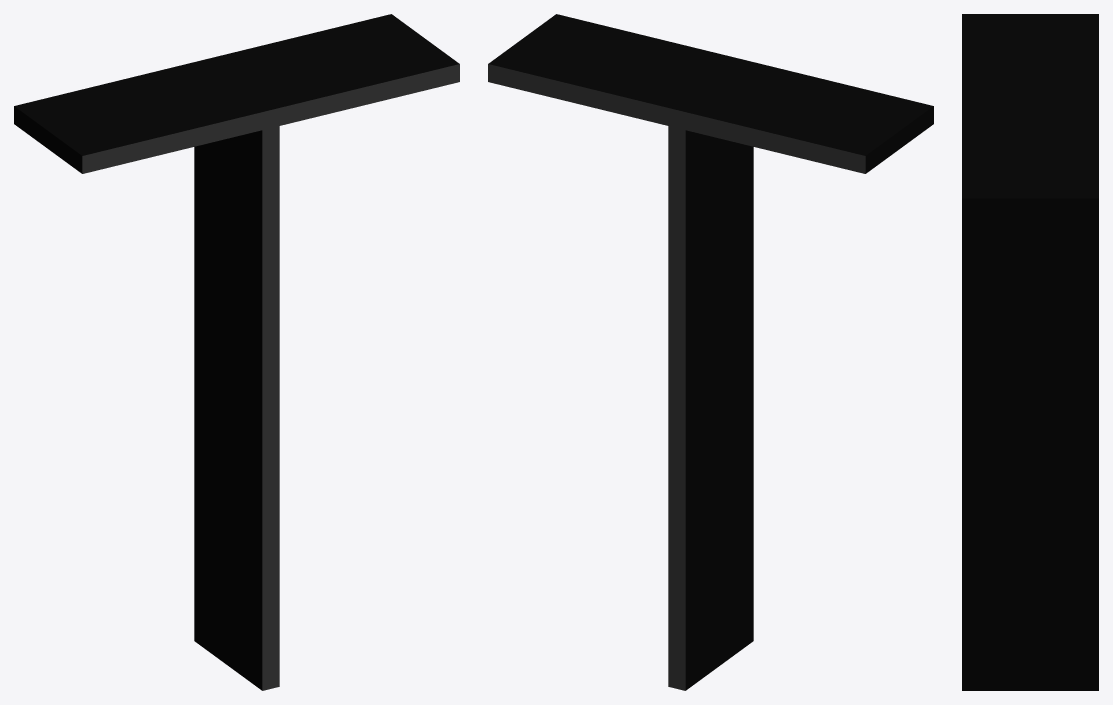
Rendered from 24aabb34-2250-4233-86ea-bbeee17e00ef.glb.
The picture shows the model from 3 angles, left to right: view 1: azimuth 30°, elevation 25°; view 2: azimuth 150°, elevation 25°; view 3: azimuth 270°, elevation 25°; orthographic projection.
Visible parts, largest first — view 1: t_AlphaProta_Black; view 2: t_AlphaProta_Black; view 3: t_AlphaProta_Black.
Part boxes in pixels (x1=…): t_AlphaProta_Black: x1=14, y1=14, x2=459, y2=690; t_AlphaProta_Black: x1=488, y1=14, x2=933, y2=690; t_AlphaProta_Black: x1=962, y1=14, x2=1098, y2=690.
Size of what is drawn, in the model's own units: 0.1436 by 0.2105 by 0.045.
2 materials, 2 textured.
